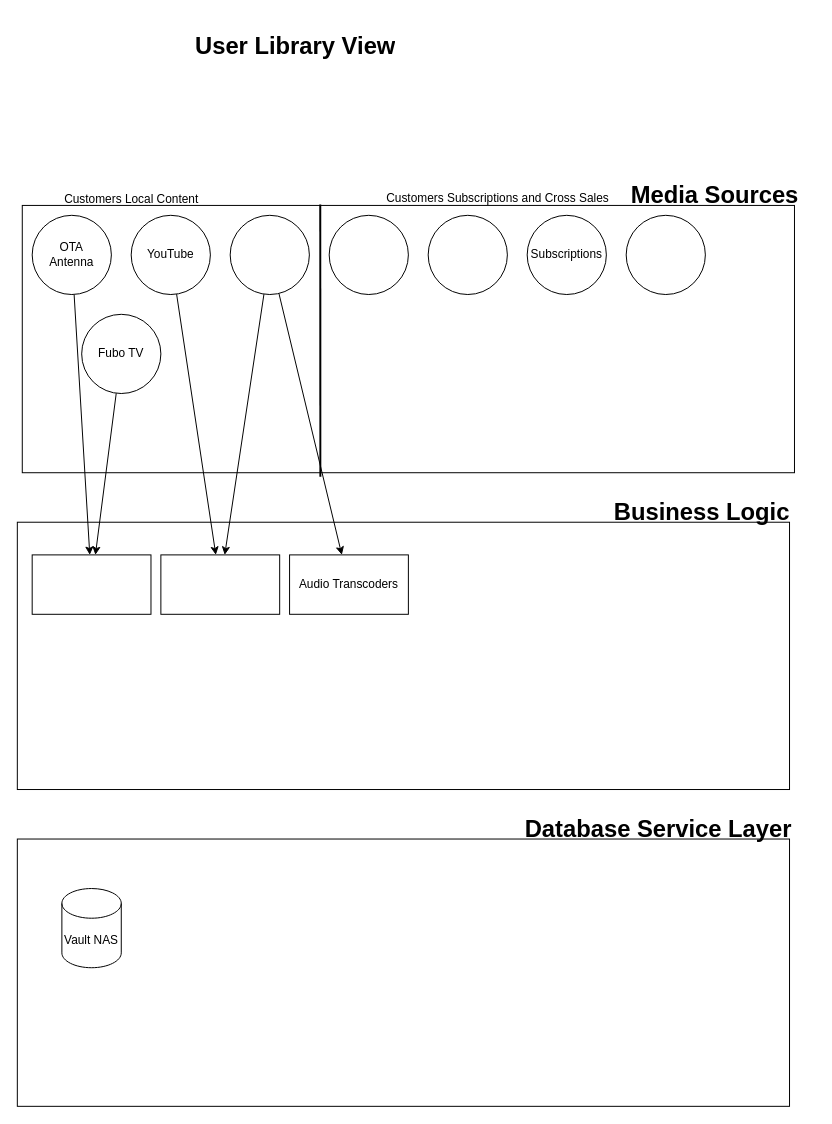
Image size: 832x1124. Some labels were removed from this diagram. The shapes that lost their labels are listed below. From the top down, each one's box as (x1, y1, x2, y2) in pixels, then its label:
(229, 214, 309, 295): Downloads
(31, 554, 151, 614): DVR Emulator
(160, 554, 280, 614): Video Transcoders
